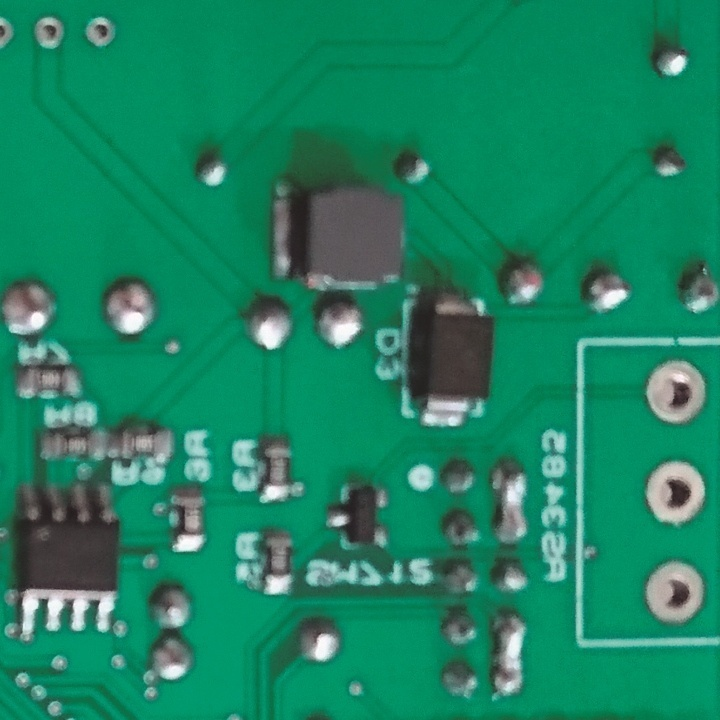F: (642, 454, 704, 529), (646, 355, 707, 426), (643, 555, 703, 623), (81, 15, 118, 52), (33, 15, 69, 53), (1, 16, 18, 54)
P: (489, 606, 526, 698), (492, 458, 527, 544)
